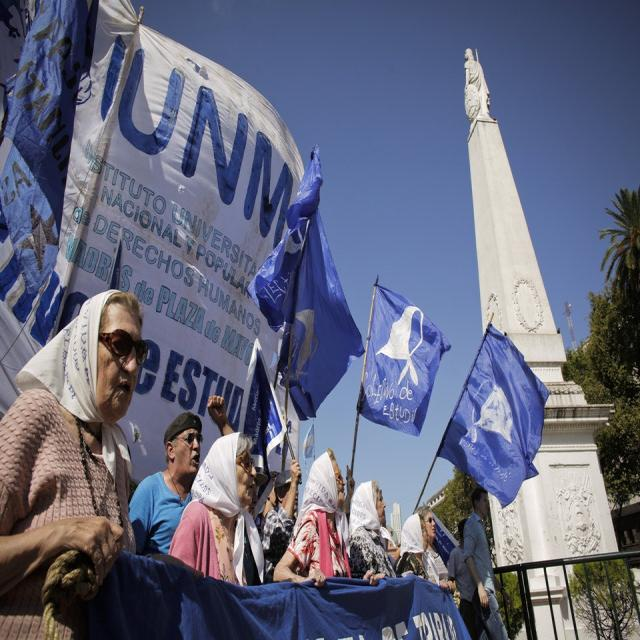body: (0, 289, 150, 639), (126, 393, 236, 556), (168, 431, 260, 589), (272, 448, 353, 587), (462, 494, 509, 639), (347, 478, 399, 587), (261, 457, 302, 584), (447, 517, 479, 638), (394, 511, 444, 587), (413, 504, 455, 594), (462, 41, 493, 122), (247, 462, 270, 546)
